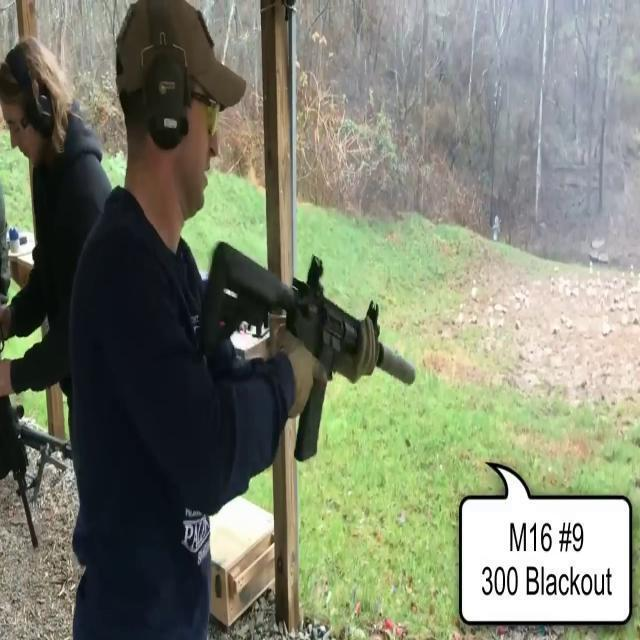Rifle: (204, 238, 416, 464)
